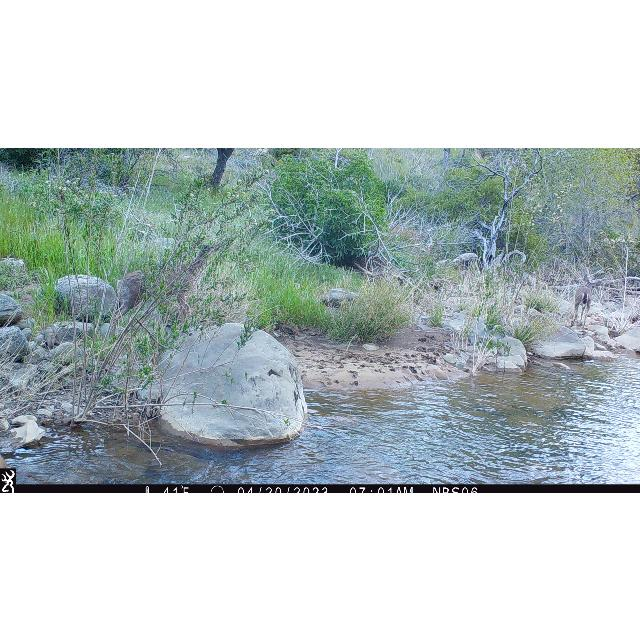animals: (110, 242, 218, 328)
